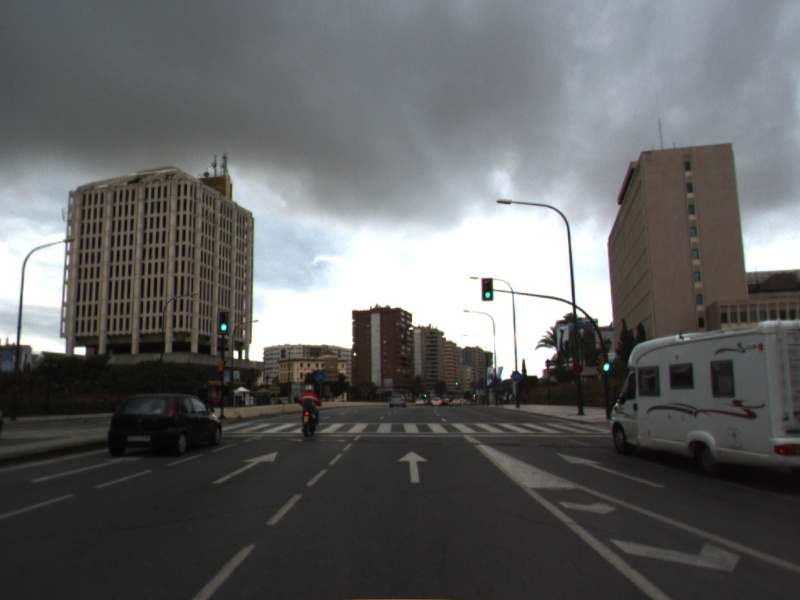STRAIGHT: (553, 450, 668, 490), (26, 453, 147, 485), (209, 449, 280, 486), (395, 449, 431, 485)
